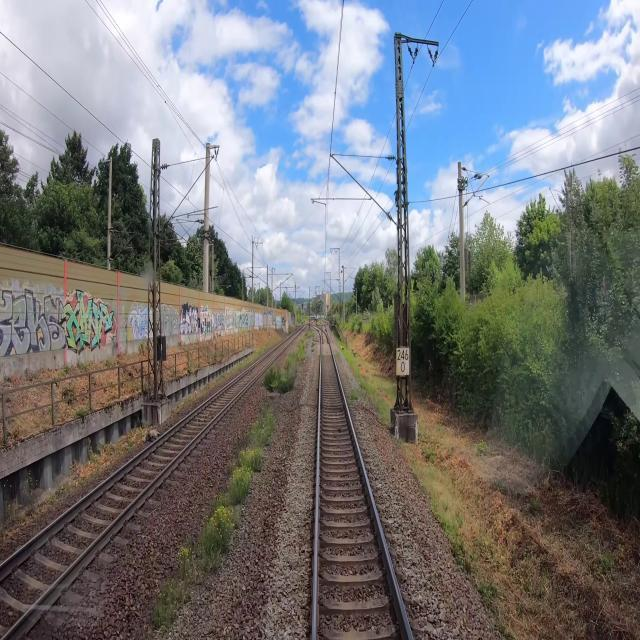Plant: (152, 399, 276, 633), (285, 328, 313, 370), (262, 365, 300, 394), (306, 322, 329, 343), (348, 388, 366, 401)
